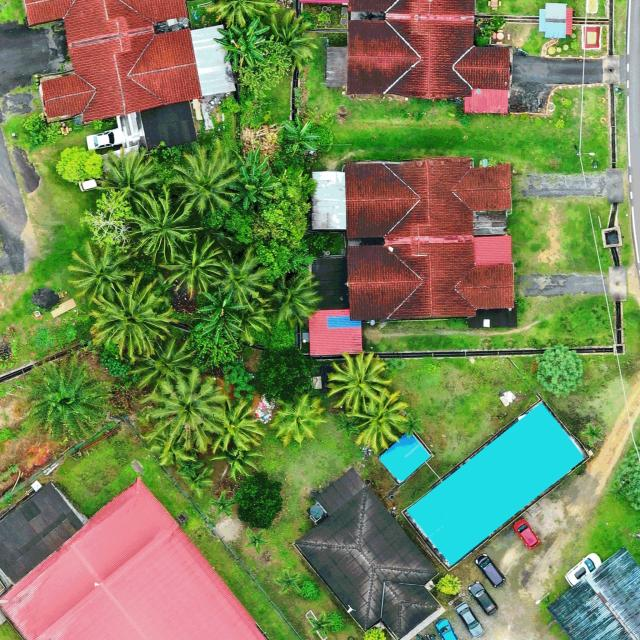Tree: (90, 276, 183, 362), (21, 358, 114, 444), (145, 369, 228, 453), (168, 141, 242, 218), (126, 184, 196, 264), (67, 239, 135, 303), (130, 334, 198, 398), (326, 350, 392, 414), (160, 234, 224, 298), (260, 6, 319, 74), (348, 389, 409, 453), (214, 247, 273, 309), (98, 150, 161, 208), (270, 391, 330, 448), (267, 270, 323, 331), (209, 395, 265, 453), (213, 17, 270, 71), (534, 340, 585, 398), (199, 0, 282, 29), (228, 166, 282, 210), (55, 144, 104, 184), (283, 112, 323, 156), (194, 316, 244, 346), (198, 289, 240, 323), (244, 144, 272, 182), (273, 566, 304, 596), (210, 491, 236, 517), (244, 528, 268, 554), (308, 610, 330, 636)
